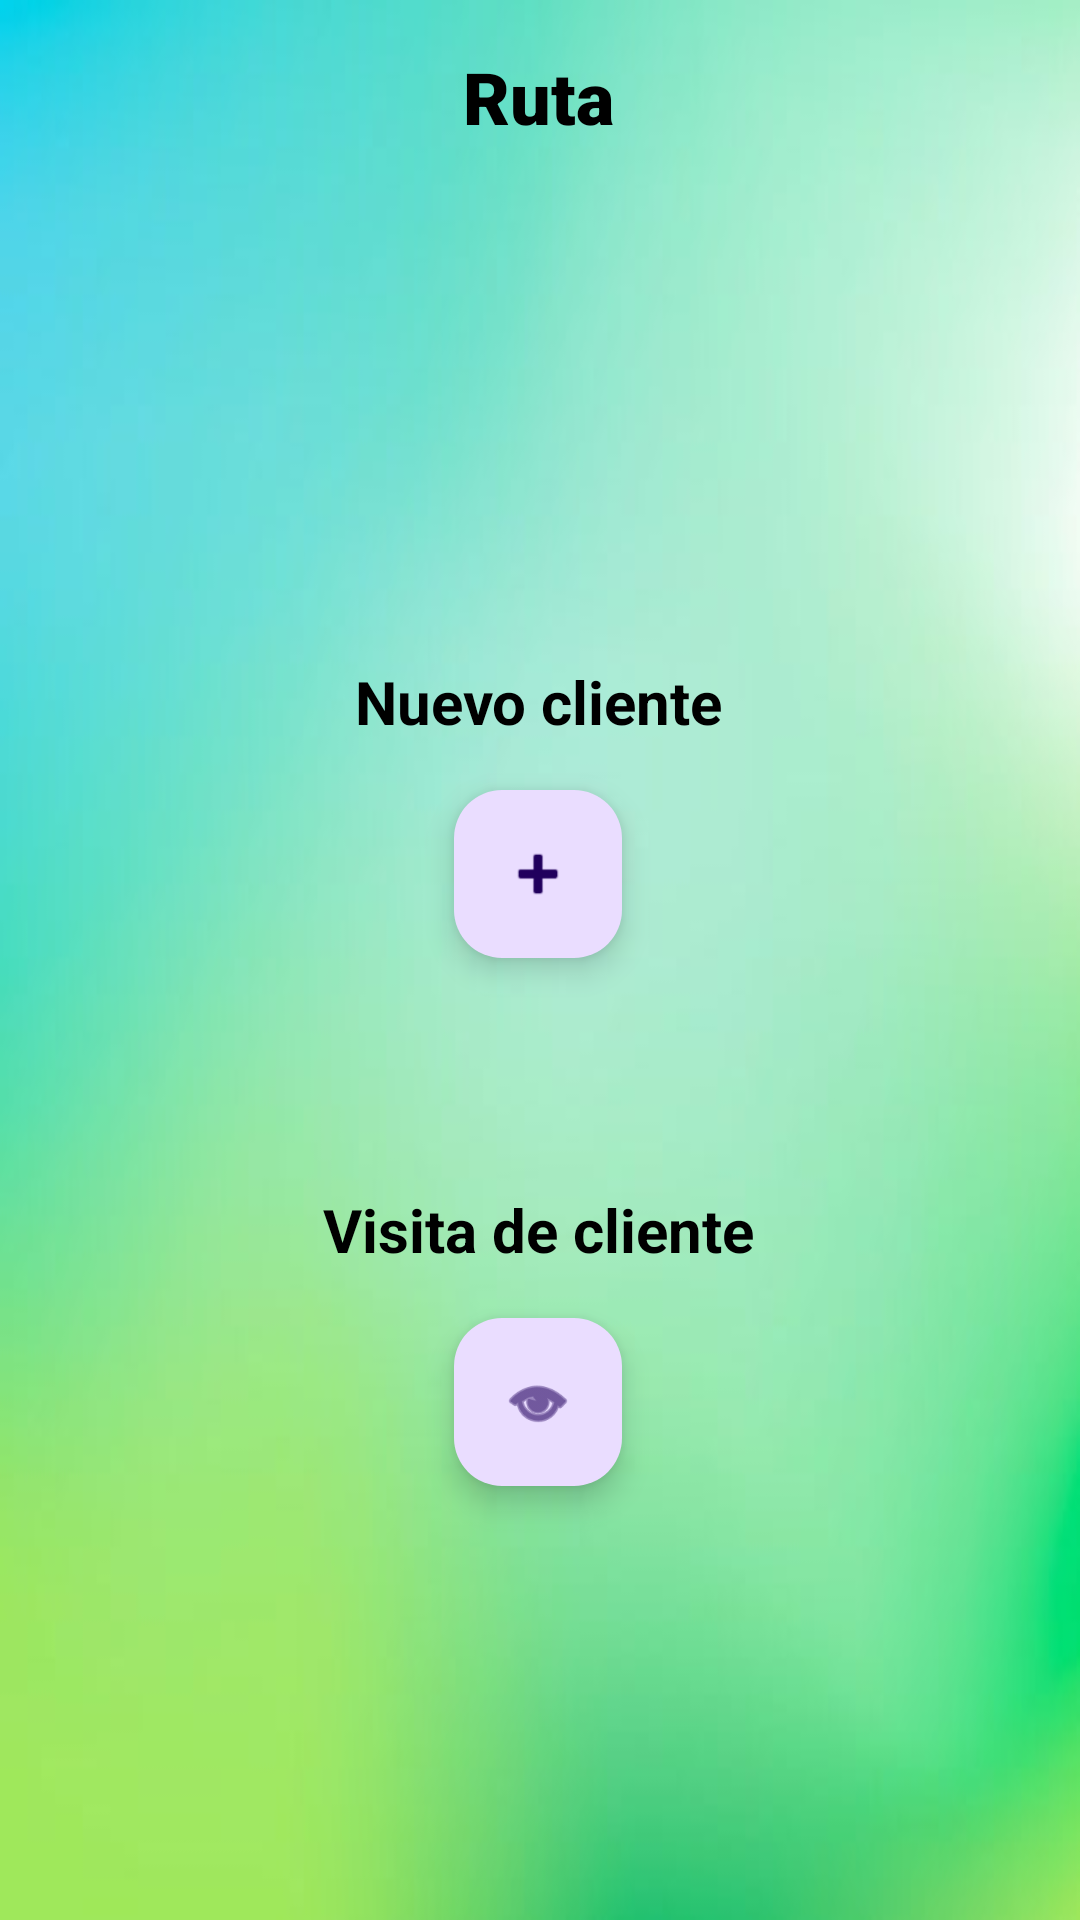

Icons on this 1080x1920 Android screen, each with the point to tap as point (x, y):
add: point (538, 874)
view: point (538, 1402)
